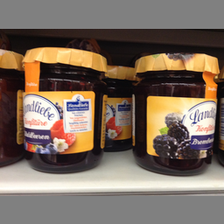jam: (130, 52, 220, 176), (22, 47, 107, 175), (1, 47, 24, 170)
